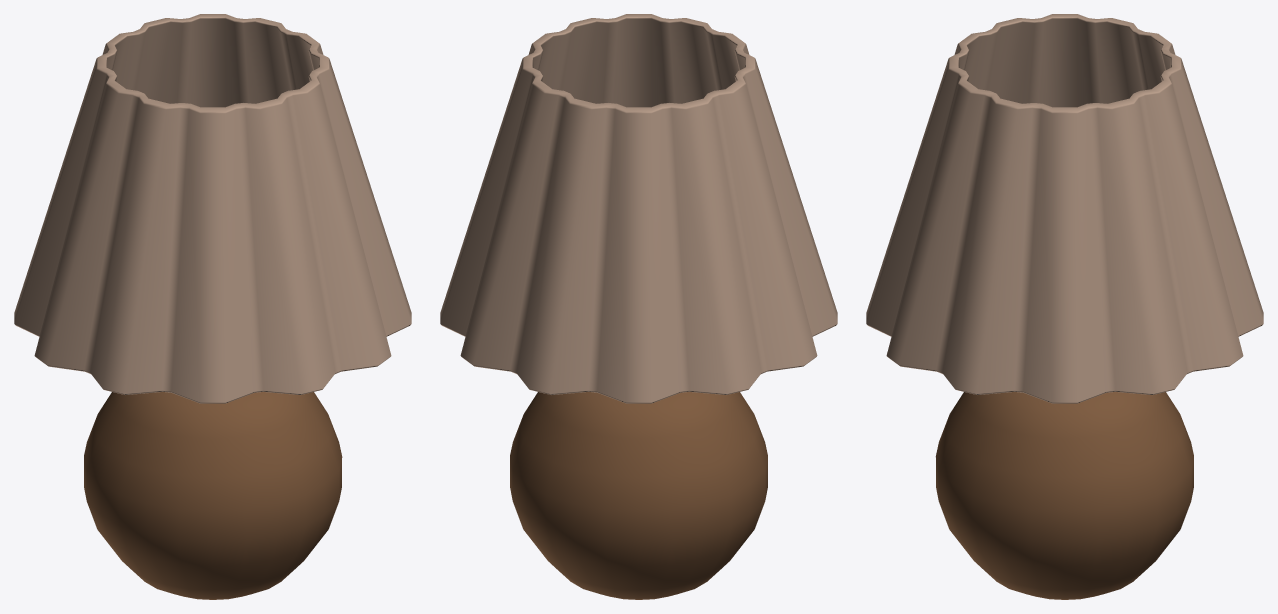
Rendered from Lamp_8.glb.
The picture shows the model from 3 angles, left to right: view 1: azimuth 30°, elevation 25°; view 2: azimuth 150°, elevation 25°; view 3: azimuth 270°, elevation 25°; orthographic projection.
Parts seen in each view (by area): view 1: Lamp_8; view 2: Lamp_8; view 3: Lamp_8.
Boxes of the visible parts, x1=… form: Lamp_8: x1=14, y1=14, x2=411, y2=599; Lamp_8: x1=440, y1=14, x2=837, y2=599; Lamp_8: x1=866, y1=14, x2=1263, y2=599.
Bounding box in the file's own units: 0.446 × 0.6403 × 0.4461.
Materials: 2 (1 with a texture image).
